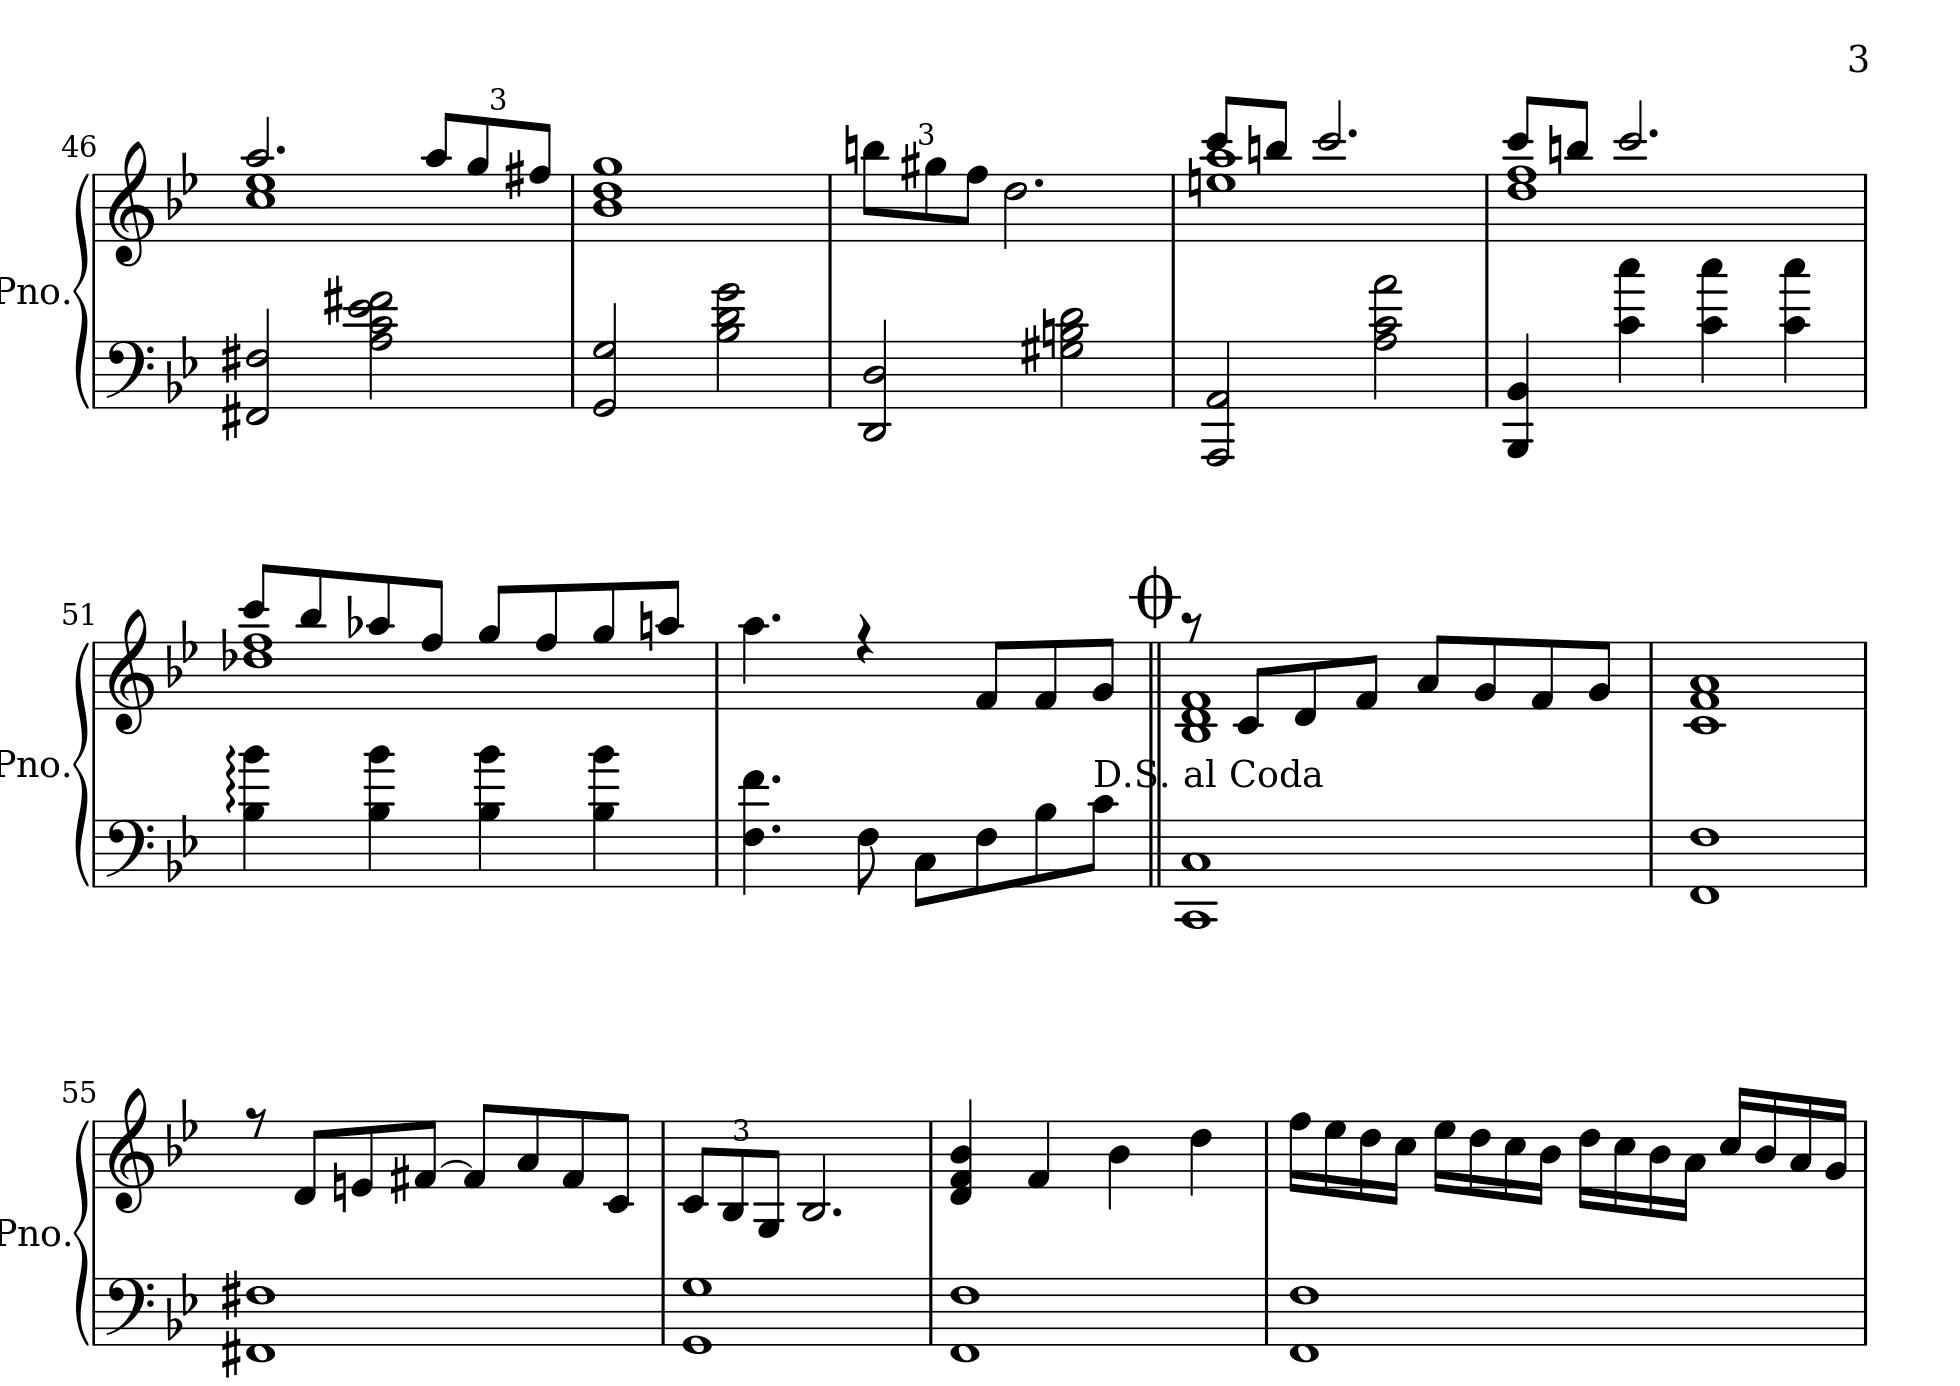1: (79, 598, 96, 628)
16_2: (1824, 1096, 1848, 1189)
16_3: (1678, 1117, 1708, 1222), (1788, 1092, 1815, 1189)
16_4: (1533, 1117, 1563, 1207), (1647, 1117, 1672, 1221), (1755, 1087, 1780, 1189)
16_5: (1719, 1084, 1752, 1189), (1387, 1117, 1419, 1206), (1612, 1117, 1638, 1216), (1503, 1117, 1527, 1201)
16_6: (1578, 1117, 1602, 1210), (1467, 1117, 1492, 1198), (1359, 1117, 1383, 1203)
16_7: (1431, 1117, 1458, 1195), (1323, 1117, 1347, 1198)
16_8: (1287, 1110, 1311, 1195)
1_-1_6: (946, 1276, 982, 1363), (1287, 1276, 1323, 1363), (244, 1276, 277, 1365), (1689, 817, 1722, 904)
1_-4_3: (1177, 817, 1218, 931)
1_0_7: (681, 1276, 715, 1354)
1_th: (1683, 639, 1728, 736), (1177, 640, 1216, 742), (591, 153, 622, 244)
2_-1_6: (244, 307, 273, 427)
2_-3: (798, 1116, 829, 1222)
2_-3_4: (856, 319, 892, 442)
2_-6_1: (1200, 340, 1237, 469)
2_0_7: (591, 303, 618, 418)
2_12: (1617, 94, 1645, 244), (1315, 96, 1344, 244)
2_4th: (346, 285, 399, 409)
2_6: (1002, 172, 1027, 250)
2_th: (1368, 268, 1404, 408), (711, 279, 747, 408), (1057, 304, 1089, 409)
3: (916, 120, 936, 145), (487, 85, 505, 111)
4: (79, 129, 97, 159), (60, 130, 78, 160)
4_-5_2: (1503, 331, 1537, 460)
4_1: (1026, 1119, 1053, 1191)
4_10: (739, 615, 766, 712)
4_10_17: (1614, 256, 1645, 411), (1698, 258, 1729, 412), (1782, 256, 1812, 411)
4_4: (1107, 1117, 1132, 1210)
4_6: (1188, 1117, 1215, 1198)
4_6_13: (738, 766, 769, 898)
4_9_16: (586, 742, 619, 888), (474, 742, 505, 888), (237, 745, 268, 888), (364, 744, 396, 886)
4_th: (946, 1096, 975, 1207)
5: (61, 597, 79, 627), (61, 1077, 79, 1105), (79, 1077, 97, 1105)
8_-1: (292, 1117, 324, 1207), (1293, 640, 1320, 729)
8_-2: (1233, 639, 1269, 735), (678, 1117, 712, 1215), (603, 1110, 634, 1213)
8_-3: (720, 1117, 748, 1222)
8_-5: (754, 1117, 783, 1239)
8_0: (349, 1117, 376, 1198)
8_1: (460, 1101, 496, 1189), (973, 637, 1008, 711), (559, 1108, 586, 1191), (1528, 636, 1557, 712), (1032, 637, 1060, 712), (1353, 639, 1381, 712), (412, 1117, 439, 1189)
8_10: (423, 111, 454, 244), (366, 573, 394, 712), (655, 577, 682, 712), (1084, 793, 1119, 889)
8_11: (297, 565, 325, 709), (1566, 94, 1591, 244), (1264, 96, 1290, 244), (861, 138, 886, 244)
8_2: (1473, 634, 1500, 712), (1587, 639, 1614, 712), (1090, 636, 1116, 712)
8_3: (1416, 633, 1449, 711), (910, 817, 937, 907), (514, 1104, 541, 1189)
8_6: (855, 817, 880, 897), (973, 817, 999, 897)
8_8: (418, 577, 445, 712), (532, 580, 559, 712), (528, 121, 553, 244), (955, 163, 988, 243)
8_9: (477, 580, 508, 711), (591, 580, 616, 712), (466, 114, 490, 244), (1032, 801, 1057, 889), (922, 154, 946, 243)
Arpeggio: (223, 742, 237, 814)
B_F: (165, 1096, 199, 1165), (166, 151, 199, 222), (166, 334, 199, 403), (166, 619, 199, 688), (165, 1270, 198, 1339), (166, 814, 198, 883)
Brace: (70, 637, 91, 886), (72, 172, 91, 409), (72, 1114, 91, 1347)
Coda: (1129, 564, 1182, 628)
DSalcoda: (1093, 756, 1323, 795)
Double_barline: (1144, 817, 1167, 886), (1146, 640, 1165, 709)
Fclef: (103, 817, 154, 889), (103, 337, 154, 408), (103, 1273, 156, 1332)
Flat: (343, 592, 363, 640), (219, 625, 237, 673)
Gclef: (106, 1084, 157, 1213), (106, 139, 154, 268), (106, 607, 154, 736)
Natural: (1185, 154, 1204, 211), (1546, 121, 1566, 178), (1246, 121, 1264, 178), (637, 597, 655, 654), (844, 121, 859, 177), (1041, 304, 1056, 358), (331, 1159, 346, 1213)
Pno: (1, 745, 60, 781), (1, 273, 60, 307), (1, 1216, 61, 1246)
Rests4: (855, 610, 874, 664)
Rests8: (243, 1102, 274, 1141), (1180, 609, 1204, 642)
Sharp: (898, 138, 921, 192), (220, 331, 243, 385), (321, 271, 343, 325), (388, 1150, 411, 1204), (220, 1267, 243, 1321), (504, 147, 525, 202), (220, 1327, 243, 1378), (220, 390, 241, 442), (1021, 324, 1041, 376)
Single_barline: (1854, 819, 1873, 886), (1257, 1276, 1275, 1345), (1642, 819, 1660, 886), (1644, 640, 1660, 709), (1857, 640, 1873, 709), (922, 1276, 939, 1345), (654, 1276, 670, 1345), (1258, 1120, 1275, 1188), (1165, 340, 1182, 406), (1855, 340, 1872, 406), (564, 340, 580, 406), (922, 1120, 939, 1186), (1857, 1278, 1873, 1344), (822, 174, 838, 238), (708, 642, 724, 706), (655, 1119, 670, 1189), (87, 1119, 102, 1188), (1857, 172, 1872, 240), (1479, 340, 1494, 408), (565, 174, 580, 240), (1479, 174, 1494, 240), (822, 340, 837, 406), (88, 819, 103, 885), (709, 819, 724, 885), (1165, 174, 1180, 238), (88, 172, 102, 241), (1858, 1120, 1872, 1189), (88, 642, 102, 709), (88, 340, 102, 406), (88, 1278, 102, 1342)
Slur: (439, 1158, 472, 1168)
dot: (829, 1203, 844, 1219), (768, 610, 783, 625), (769, 769, 783, 784), (274, 144, 288, 157), (1347, 124, 1359, 139), (1647, 124, 1659, 139), (769, 820, 781, 835), (1032, 175, 1044, 189)
